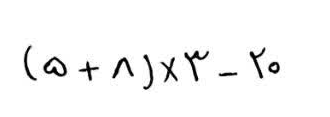character: (182, 49, 211, 84), (246, 45, 268, 81), (158, 55, 179, 86), (23, 43, 39, 82), (111, 55, 135, 80), (42, 55, 68, 78), (78, 59, 102, 83), (141, 53, 155, 91), (267, 59, 282, 76), (218, 69, 240, 80)
